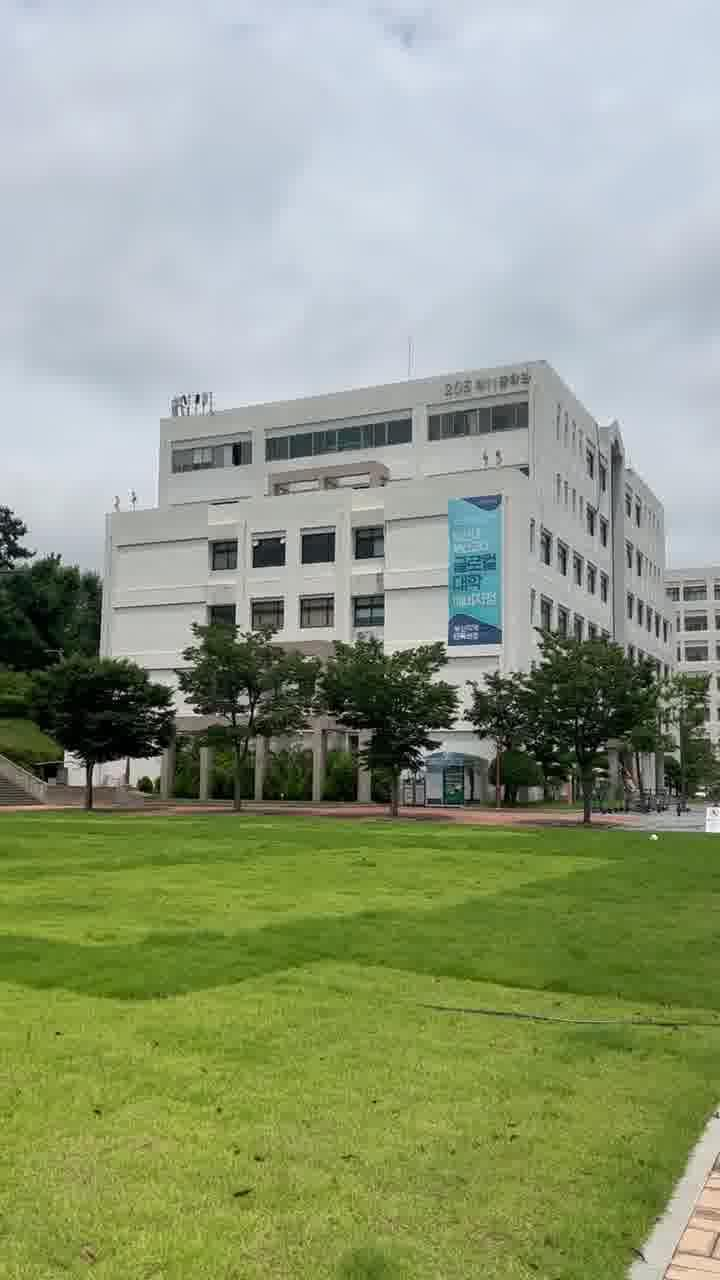building: (98, 322, 672, 636)
